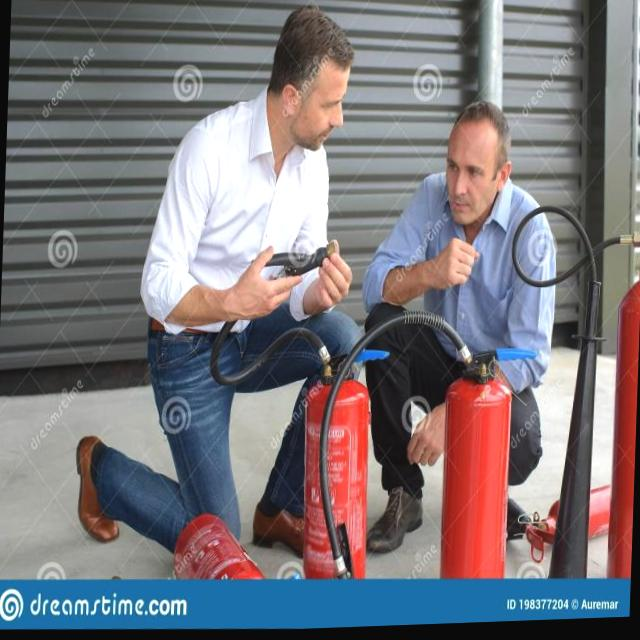FireExtinguisher: (204, 235, 382, 594), (310, 300, 522, 590), (495, 202, 640, 591), (160, 509, 276, 600)
